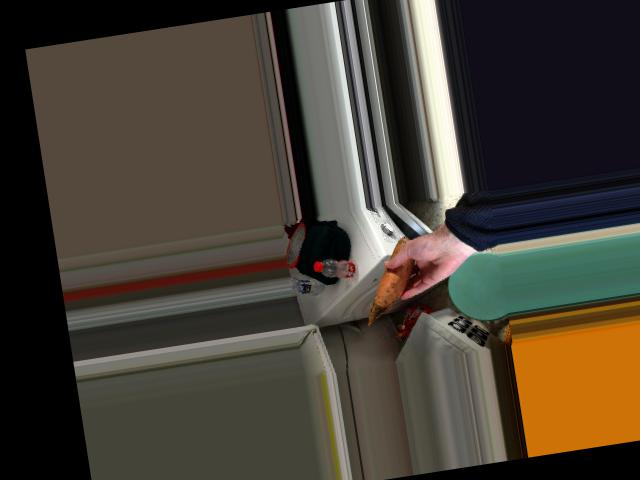sweet_potato: (367, 250, 418, 302)
